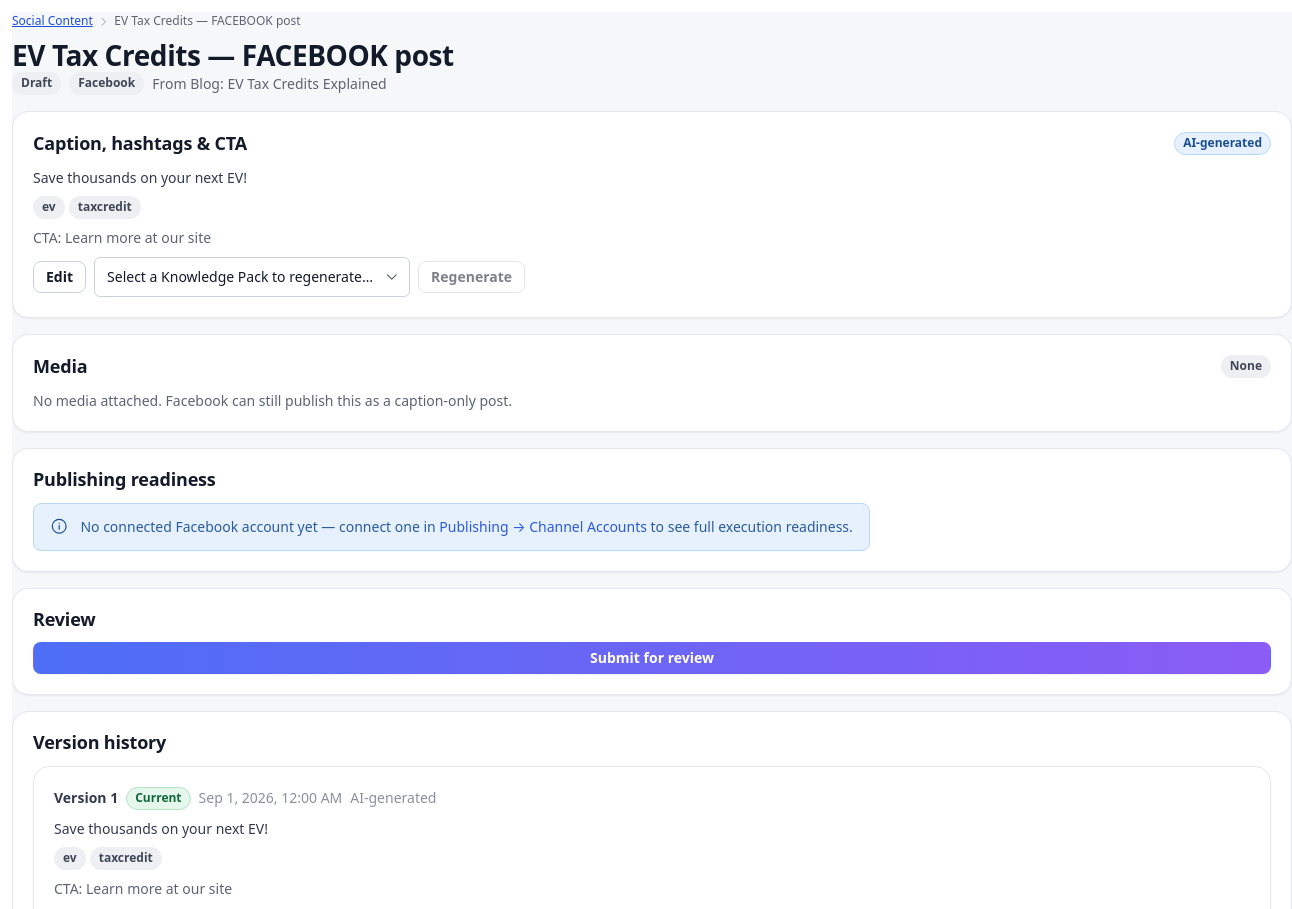
SocialPostDetail › submit for review is available with SOCIAL_EDIT in an editable state
Click the button "Submit for review" at [652, 658], box [33, 642, 1271, 674]
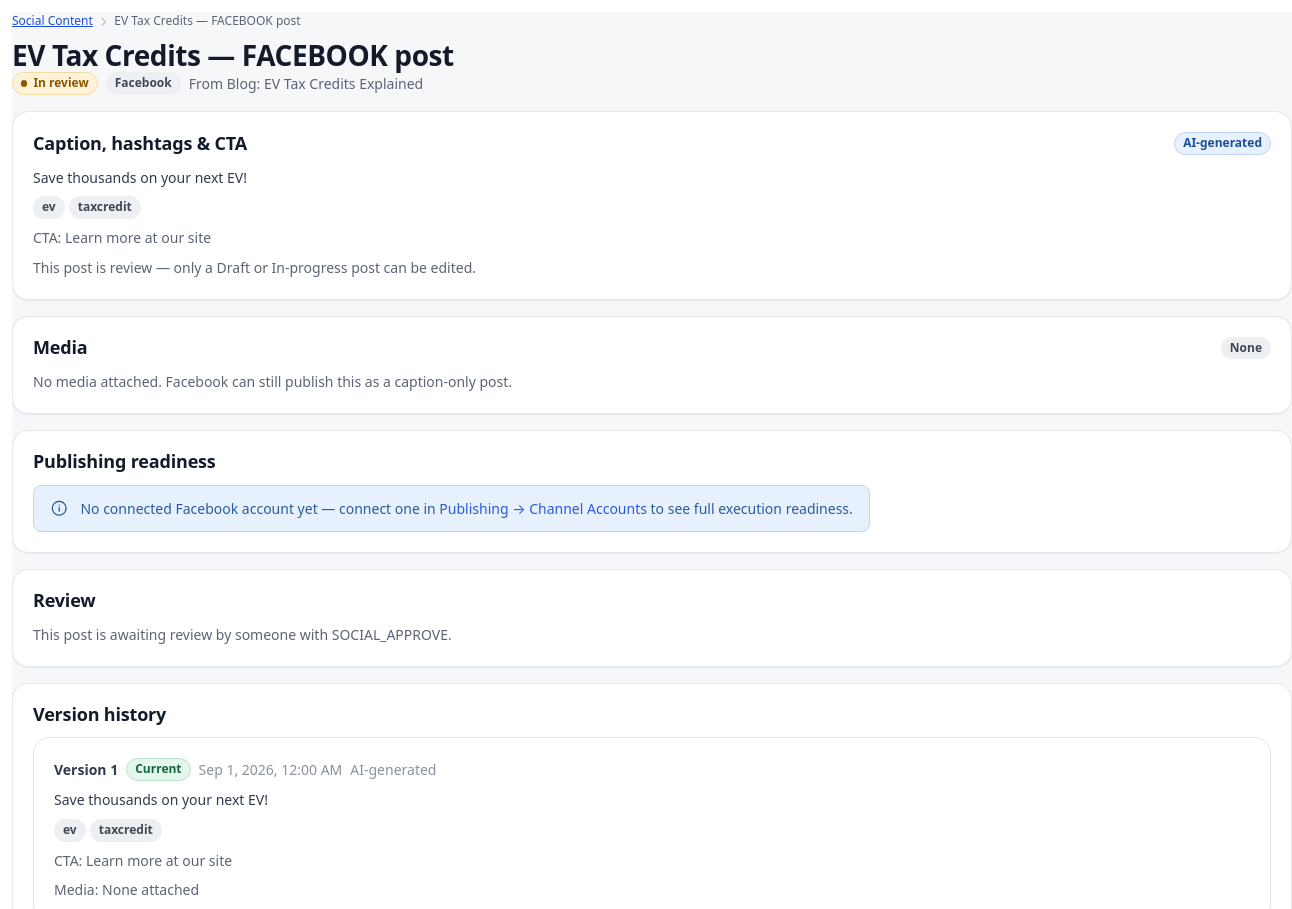
Expected: the text "In review" is shown, [12, 72, 98, 95]
